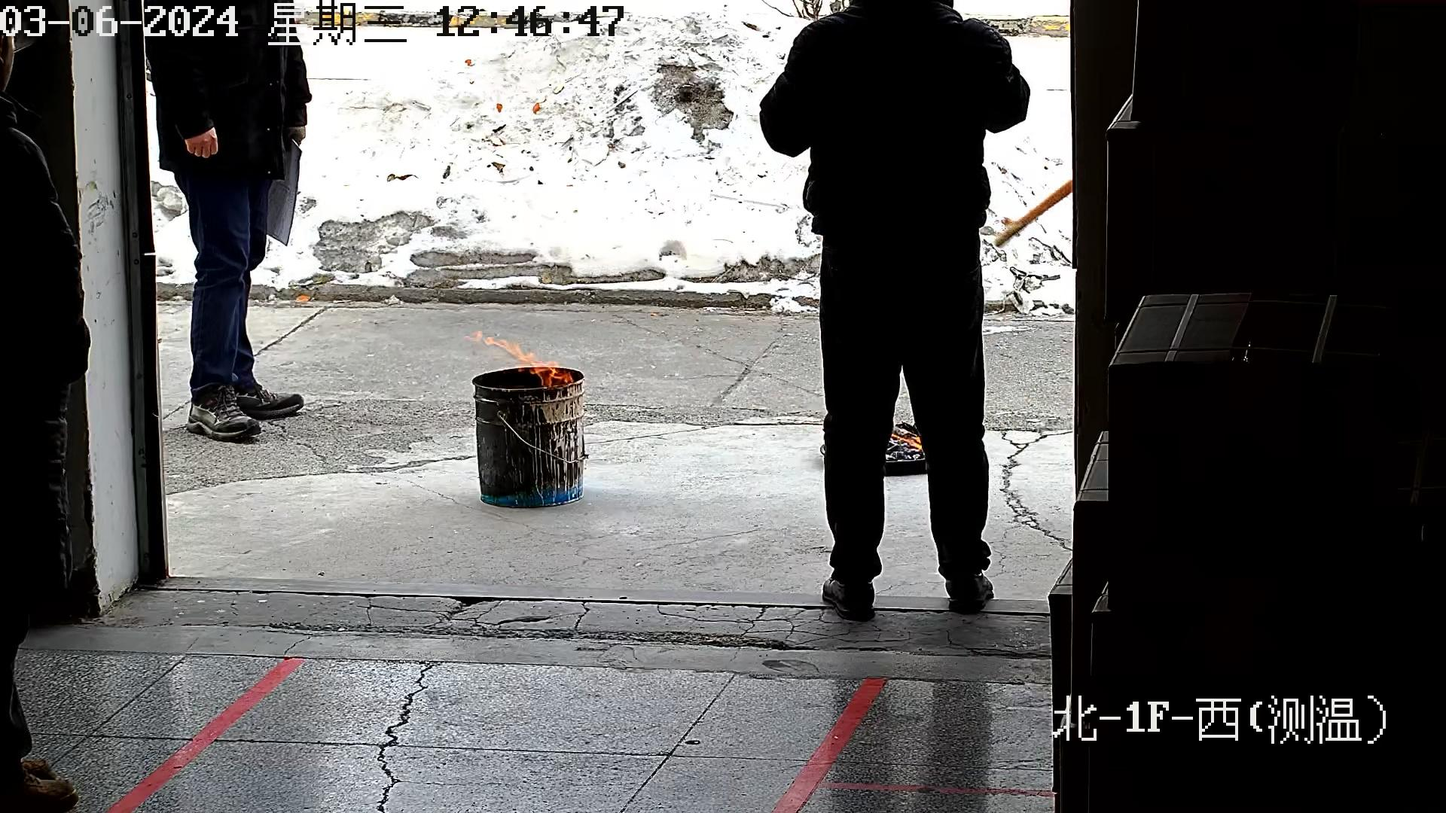fire: (466, 331, 572, 387), (891, 424, 922, 450)
